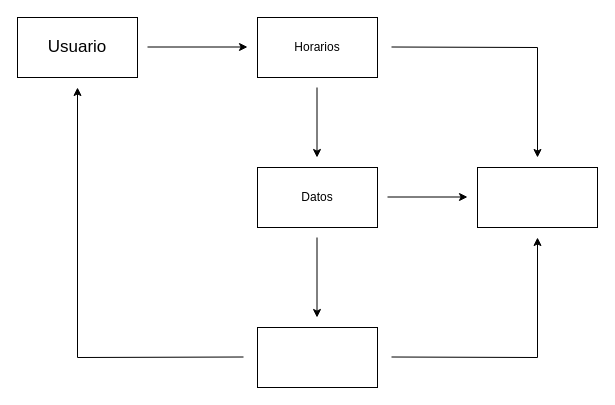
Some shapes in this 615 by 405 pixel diagram are drawn without their labels. Here are the shapes that lost their labels. From the top down, the centre of each, then its label:
At (537,197): "BASE DE DATOS HORARIOS".
At (317,357): "Confirmacion".
